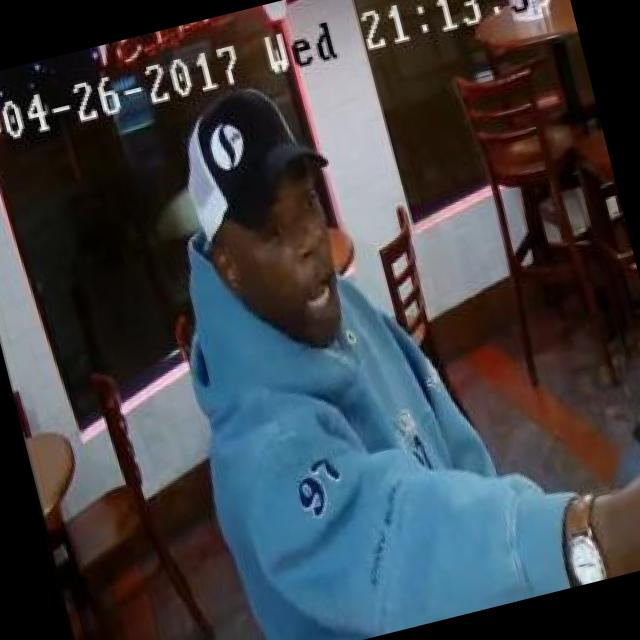Guns: (615, 382, 640, 565)
